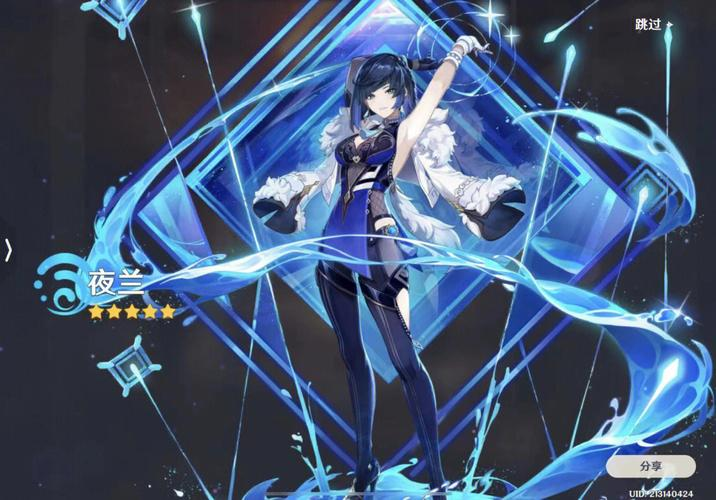夜兰: (309, 27, 492, 500)
